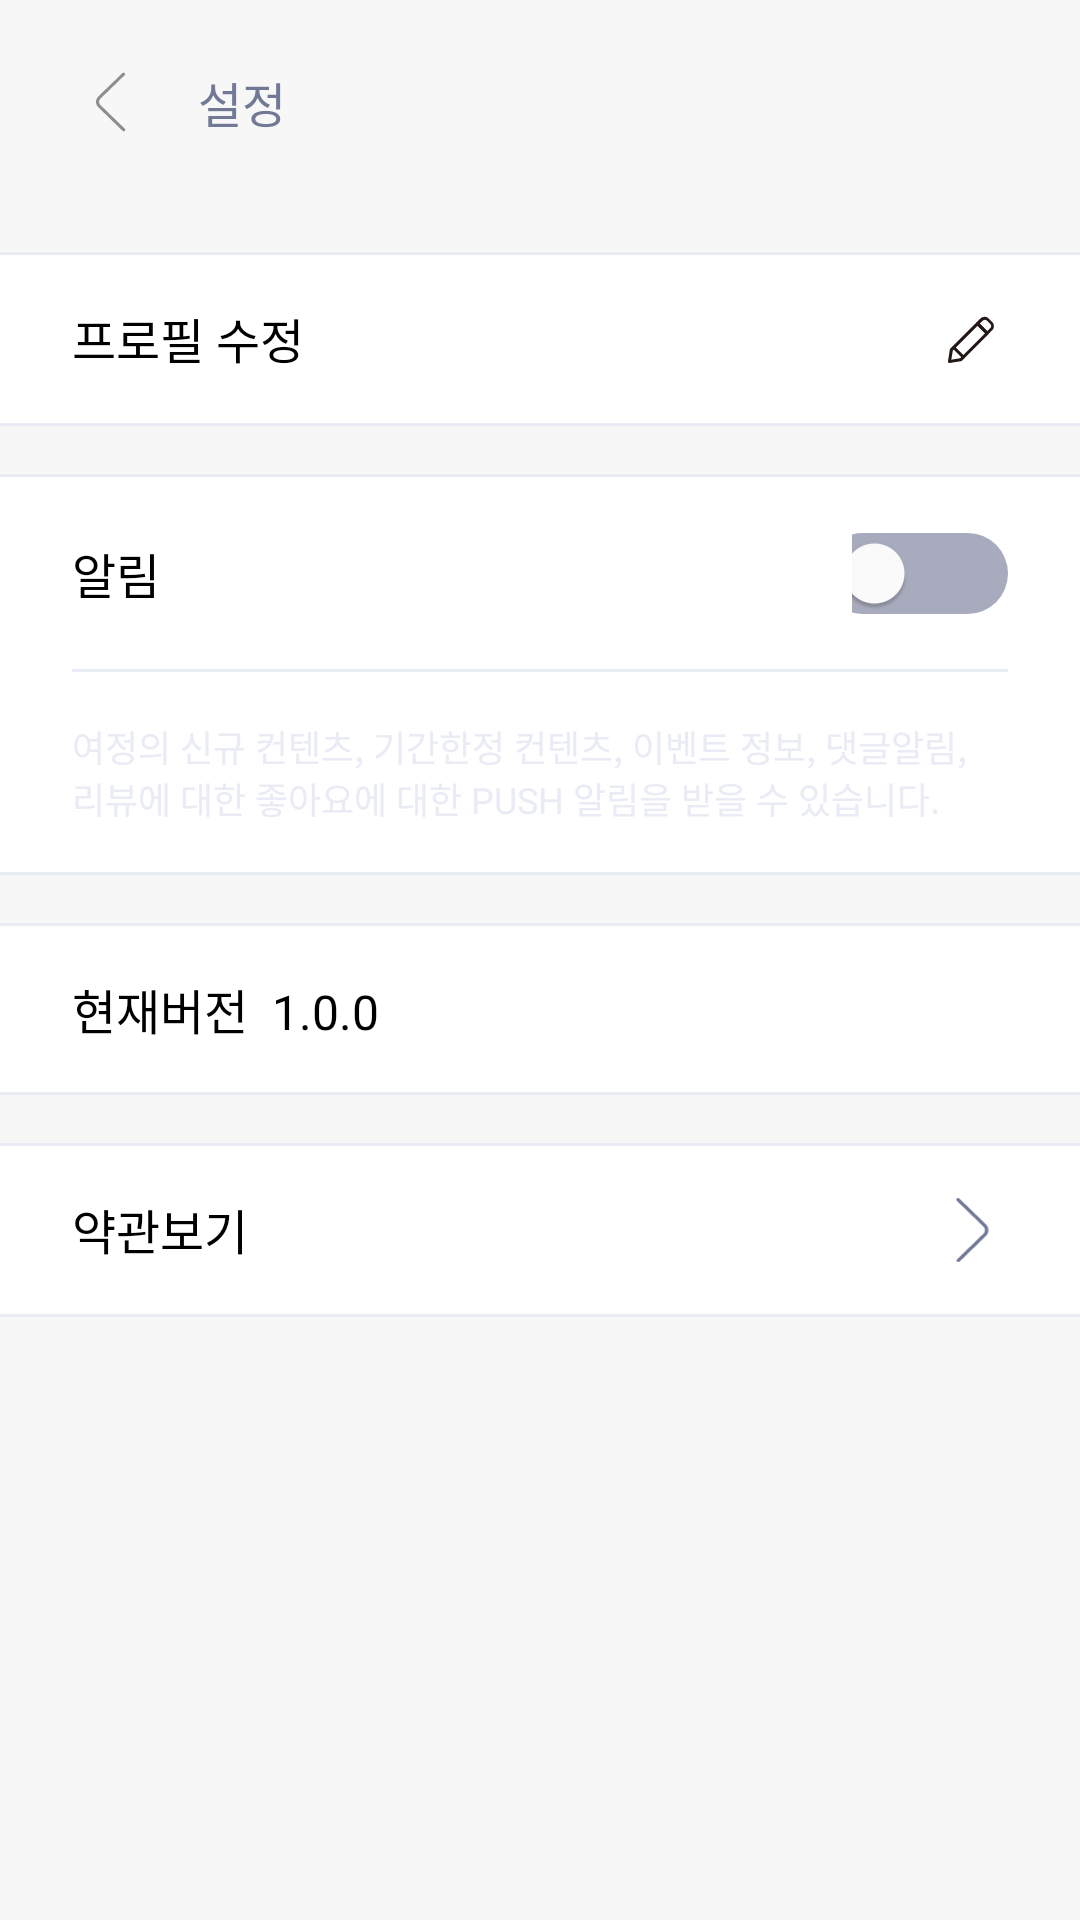

Icon bounding boxes for this 1080×1920 phone screenshot, format (x1, y1, x2, y2):
backbutton: (96, 72, 125, 132)
rightarrow: (956, 1198, 989, 1262)
write: (948, 316, 994, 363)
